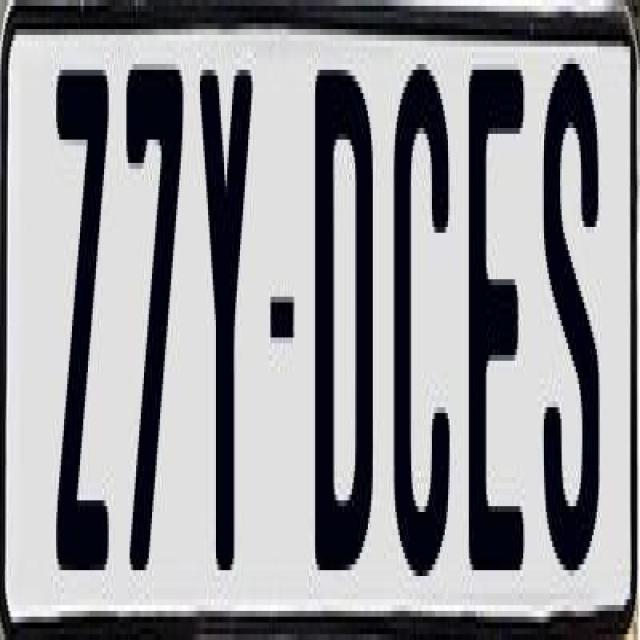7: (125, 52, 181, 564)
C: (388, 58, 449, 599)
D: (312, 63, 374, 600)
E: (467, 52, 525, 564)
S: (539, 46, 605, 582)
Y: (197, 52, 260, 576)
Z: (55, 58, 112, 582)
